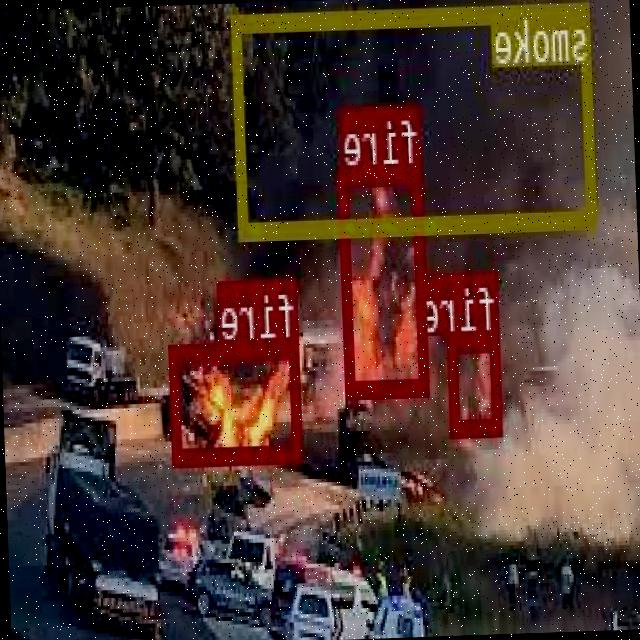fire: (340, 163, 430, 395), (172, 338, 304, 460), (449, 330, 504, 434)
smoke: (233, 0, 598, 235)
